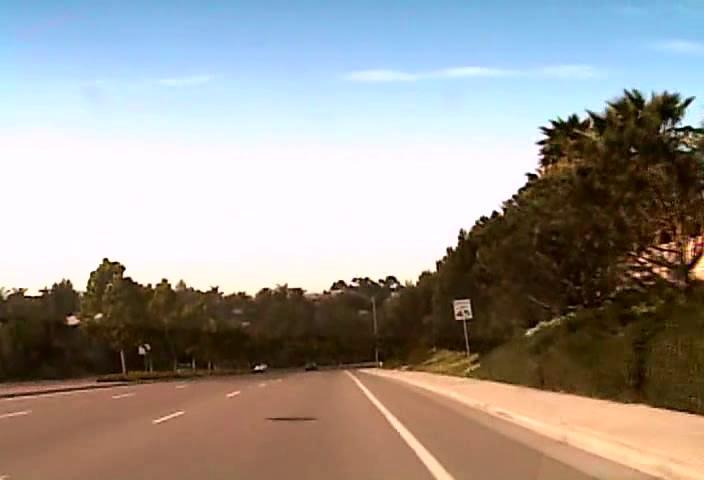speedLimit45: (453, 298, 472, 320)
